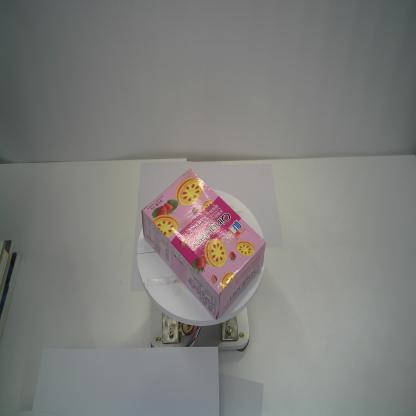Dessert: (140, 167, 267, 322)
